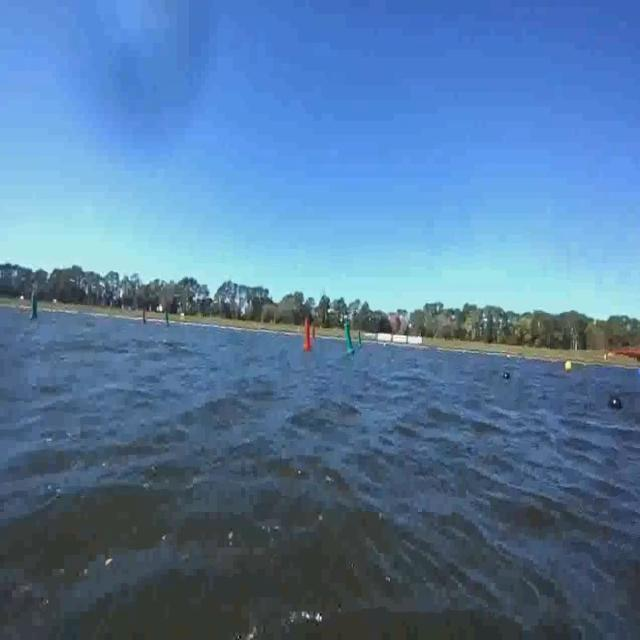black-buoy: (610, 397, 625, 412), (504, 370, 509, 380)
green-column-buoy: (345, 324, 356, 356), (30, 293, 40, 321), (163, 308, 170, 326), (357, 333, 363, 349)
red-column-buoy: (305, 320, 313, 349), (142, 308, 148, 326)
yellow-buoy: (564, 358, 573, 374)
